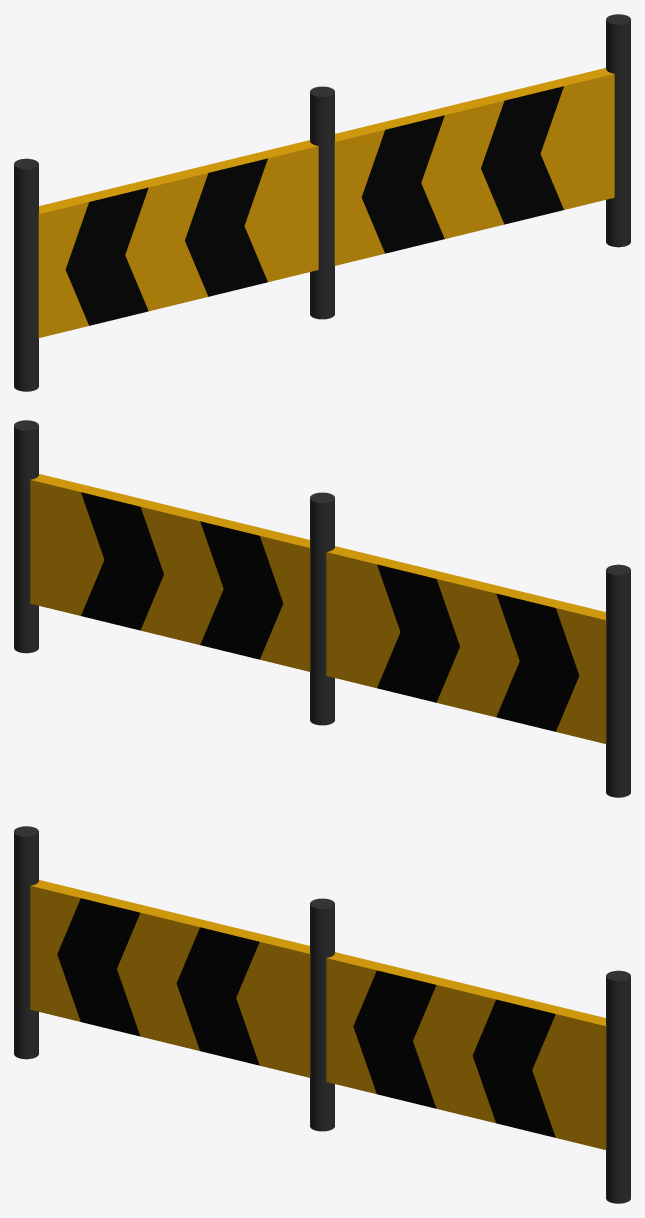
File: Fence.fbx
3 renders of one model, top to bottom at view 1: azimuth 30°, elevation 25°; view 2: azimuth 150°, elevation 25°; view 3: azimuth 330°, elevation 25°, orthographic.
Parts seen in each view (by area): view 1: Fence; view 2: Fence; view 3: Fence.
Part boxes in pixels (x1=…): Fence: x1=14, y1=14, x2=630, y2=391; Fence: x1=14, y1=420, x2=630, y2=797; Fence: x1=14, y1=826, x2=630, y2=1203.
Size of what is drawn, in the model's own units: 1037 by 359 by 36.51.
